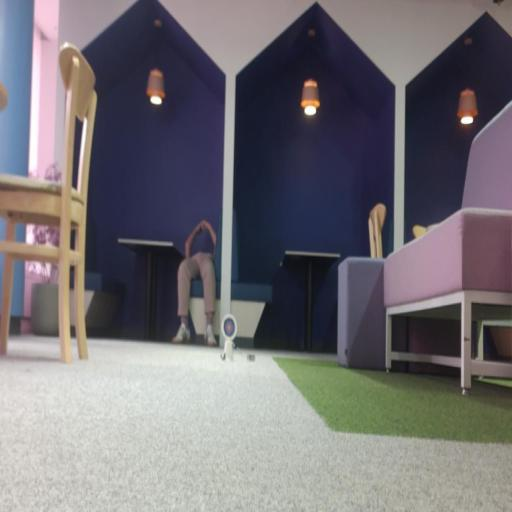target: (221, 314, 237, 343)
